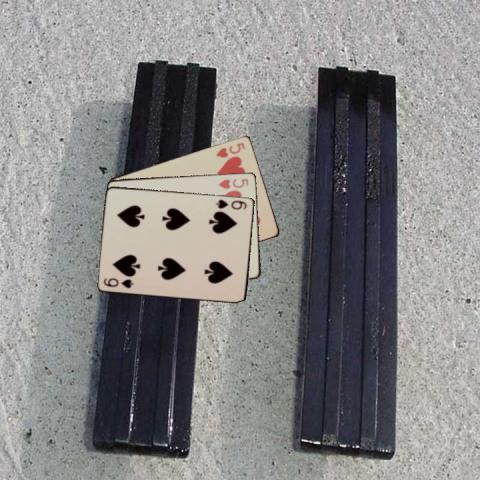5h: (213, 139, 246, 159), (216, 176, 250, 190)
6s: (213, 196, 249, 210), (100, 275, 134, 289)
